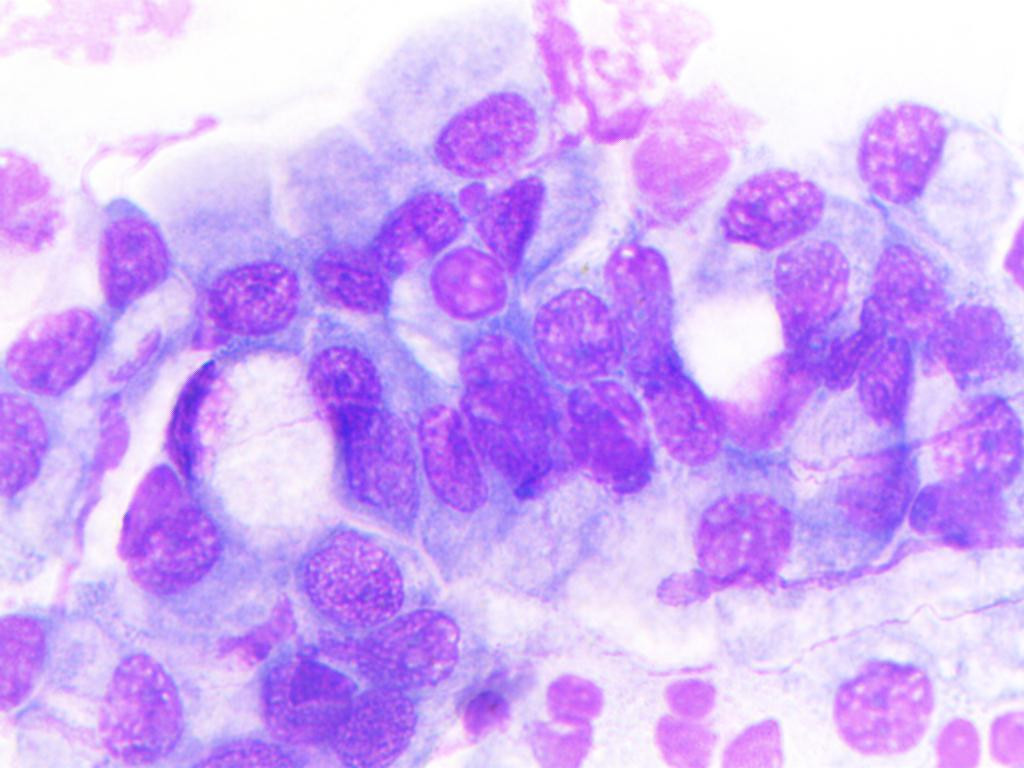epithelial: (181, 161, 313, 349), (109, 460, 242, 618), (848, 89, 1006, 209), (280, 522, 443, 630), (62, 642, 185, 768), (815, 639, 935, 767), (690, 473, 803, 599), (596, 234, 694, 369), (559, 385, 663, 504), (421, 79, 542, 179), (717, 341, 827, 448), (709, 166, 844, 251), (82, 176, 176, 298), (520, 274, 622, 377), (353, 603, 471, 691), (252, 648, 353, 749), (638, 363, 729, 470), (9, 302, 100, 404), (924, 299, 1016, 397), (415, 400, 485, 513), (0, 398, 66, 517), (936, 392, 1024, 481), (424, 242, 502, 340), (774, 234, 843, 342), (913, 482, 1011, 554), (378, 184, 466, 264), (870, 228, 933, 339), (336, 687, 420, 768), (304, 249, 398, 318), (0, 610, 58, 717), (307, 342, 381, 423)
goblet_cell: (164, 346, 341, 521)
neutrophil: (658, 673, 788, 768), (528, 670, 594, 768), (931, 712, 1024, 768)
